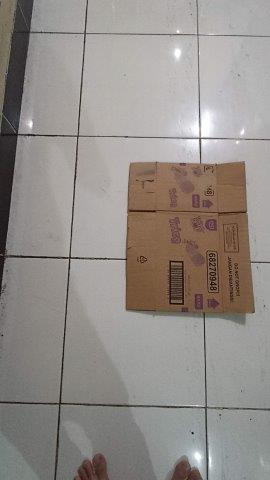kardus: (127, 162, 255, 312)
